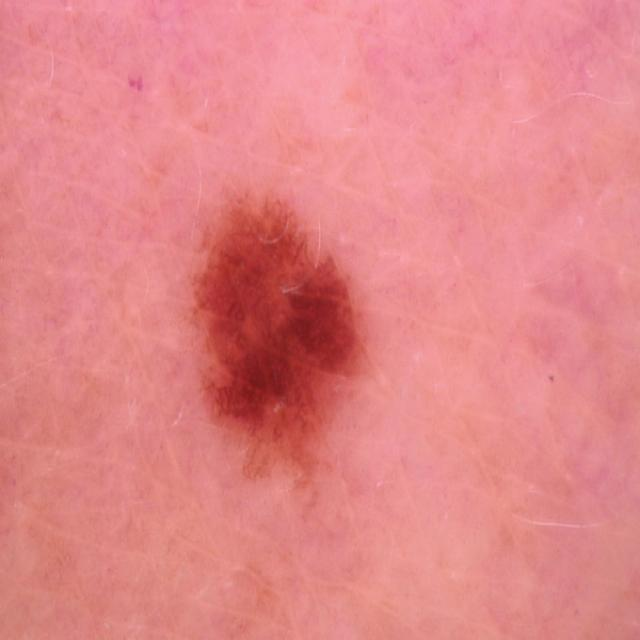NV: (187, 188, 369, 492)
